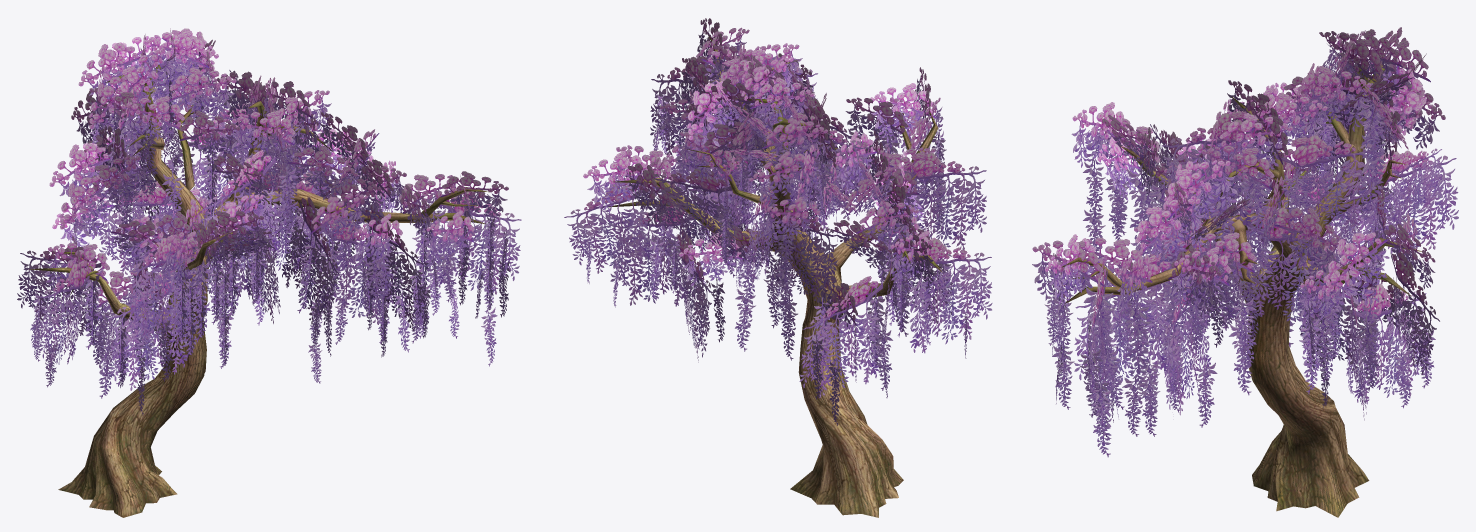
Rendered from zc_flower_121203.FBX.
The picture shows the model from 3 angles, left to right: view 1: azimuth 30°, elevation 25°; view 2: azimuth 150°, elevation 25°; view 3: azimuth 270°, elevation 25°; orthographic projection. The views are drawn at different scales.
Visible parts, largest first — view 1: zc_flower_03; view 2: zc_flower_03; view 3: zc_flower_03.
Boxes of the visible parts, x1,y1,x2,y2 form: zc_flower_03: (17,28,521,517); zc_flower_03: (564,18,992,517); zc_flower_03: (1032,27,1458,517).
Size of the model in its own units: 913 by 918 by 732.
